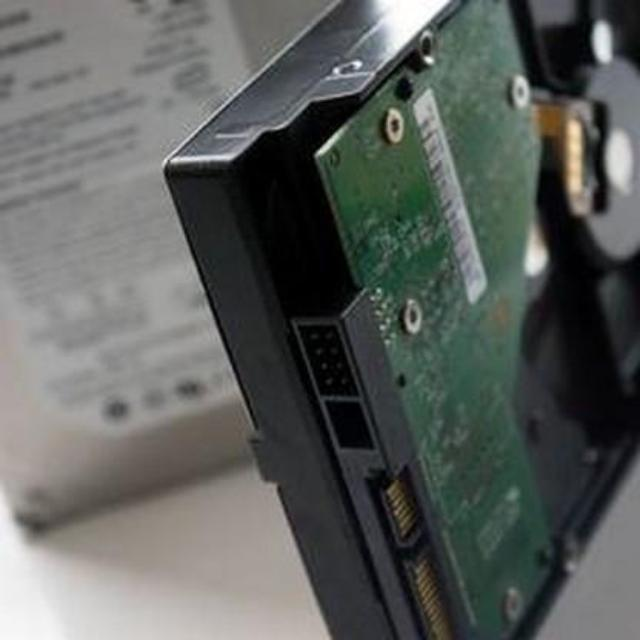DISK: (177, 0, 640, 638)
